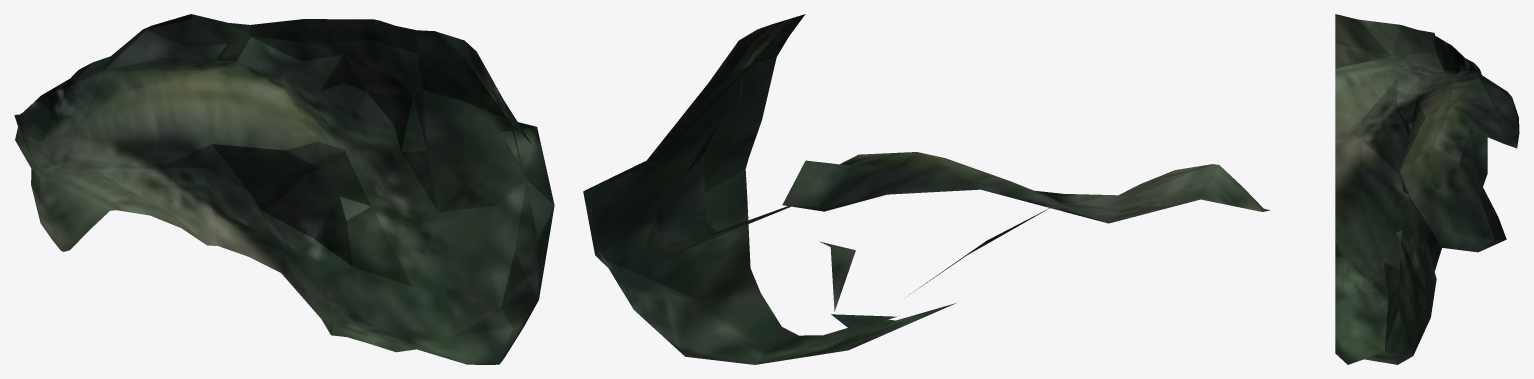
The picture shows the model from 3 angles, left to right: view 1: azimuth 30°, elevation 25°; view 2: azimuth 150°, elevation 25°; view 3: azimuth 270°, elevation 25°; orthographic projection. The views are drawn at different scales.
Bounding box in the file's own units: 11.26 × 5.6 × 4.7.
1 material, 1 textured.
